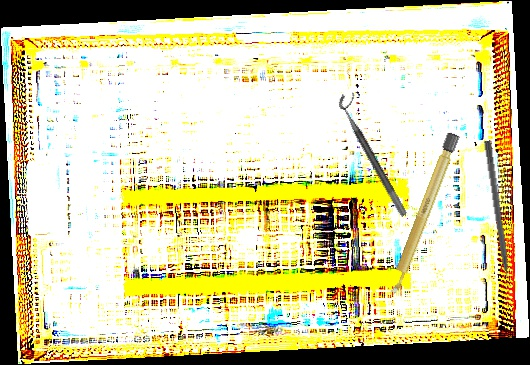Fixation Ring: (334, 89, 418, 218)
Pusher: (482, 140, 513, 295)
Scalpel Handle: (385, 130, 461, 299)
